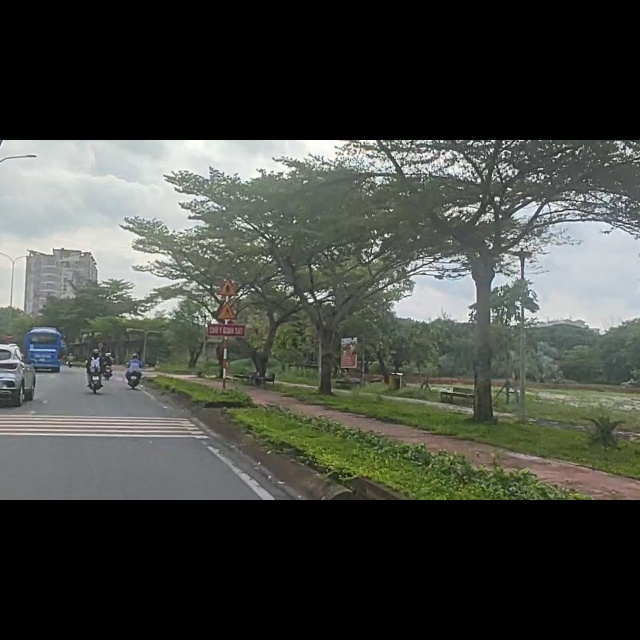bien_nguy_hiem: (213, 284, 241, 324), (216, 247, 243, 281)
